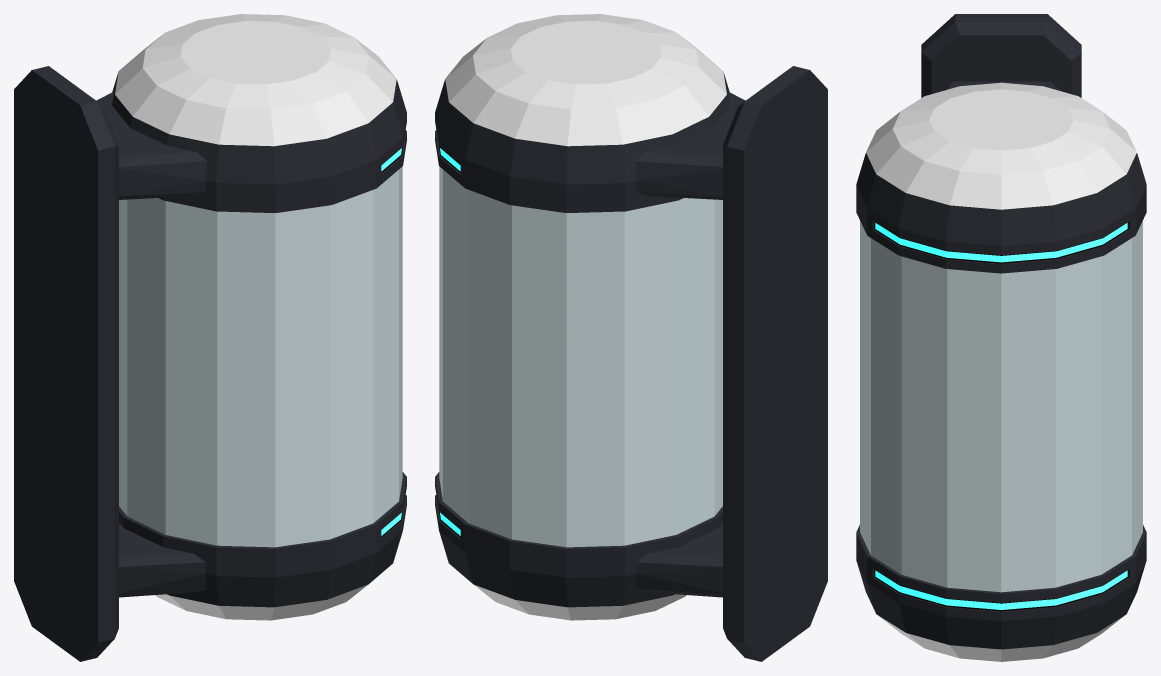
File: SM_Wall_Mounted_Glass_Planter.fbx
3 views of the same model, side by side, from view 1: azimuth 30°, elevation 25°; view 2: azimuth 150°, elevation 25°; view 3: azimuth 270°, elevation 25° (orthographic). The views are drawn at different scales.
Parts seen in each view (by area): view 1: SM_Wall_Mounted_Glass_Planter; view 2: SM_Wall_Mounted_Glass_Planter; view 3: SM_Wall_Mounted_Glass_Planter.
Boxes of the visible parts, x1,y1,x2,y2 form: SM_Wall_Mounted_Glass_Planter: [14, 14, 406, 661]; SM_Wall_Mounted_Glass_Planter: [435, 14, 827, 661]; SM_Wall_Mounted_Glass_Planter: [856, 14, 1146, 661].
Size of the model in its own units: 53.04 by 85.02 by 42.2.
